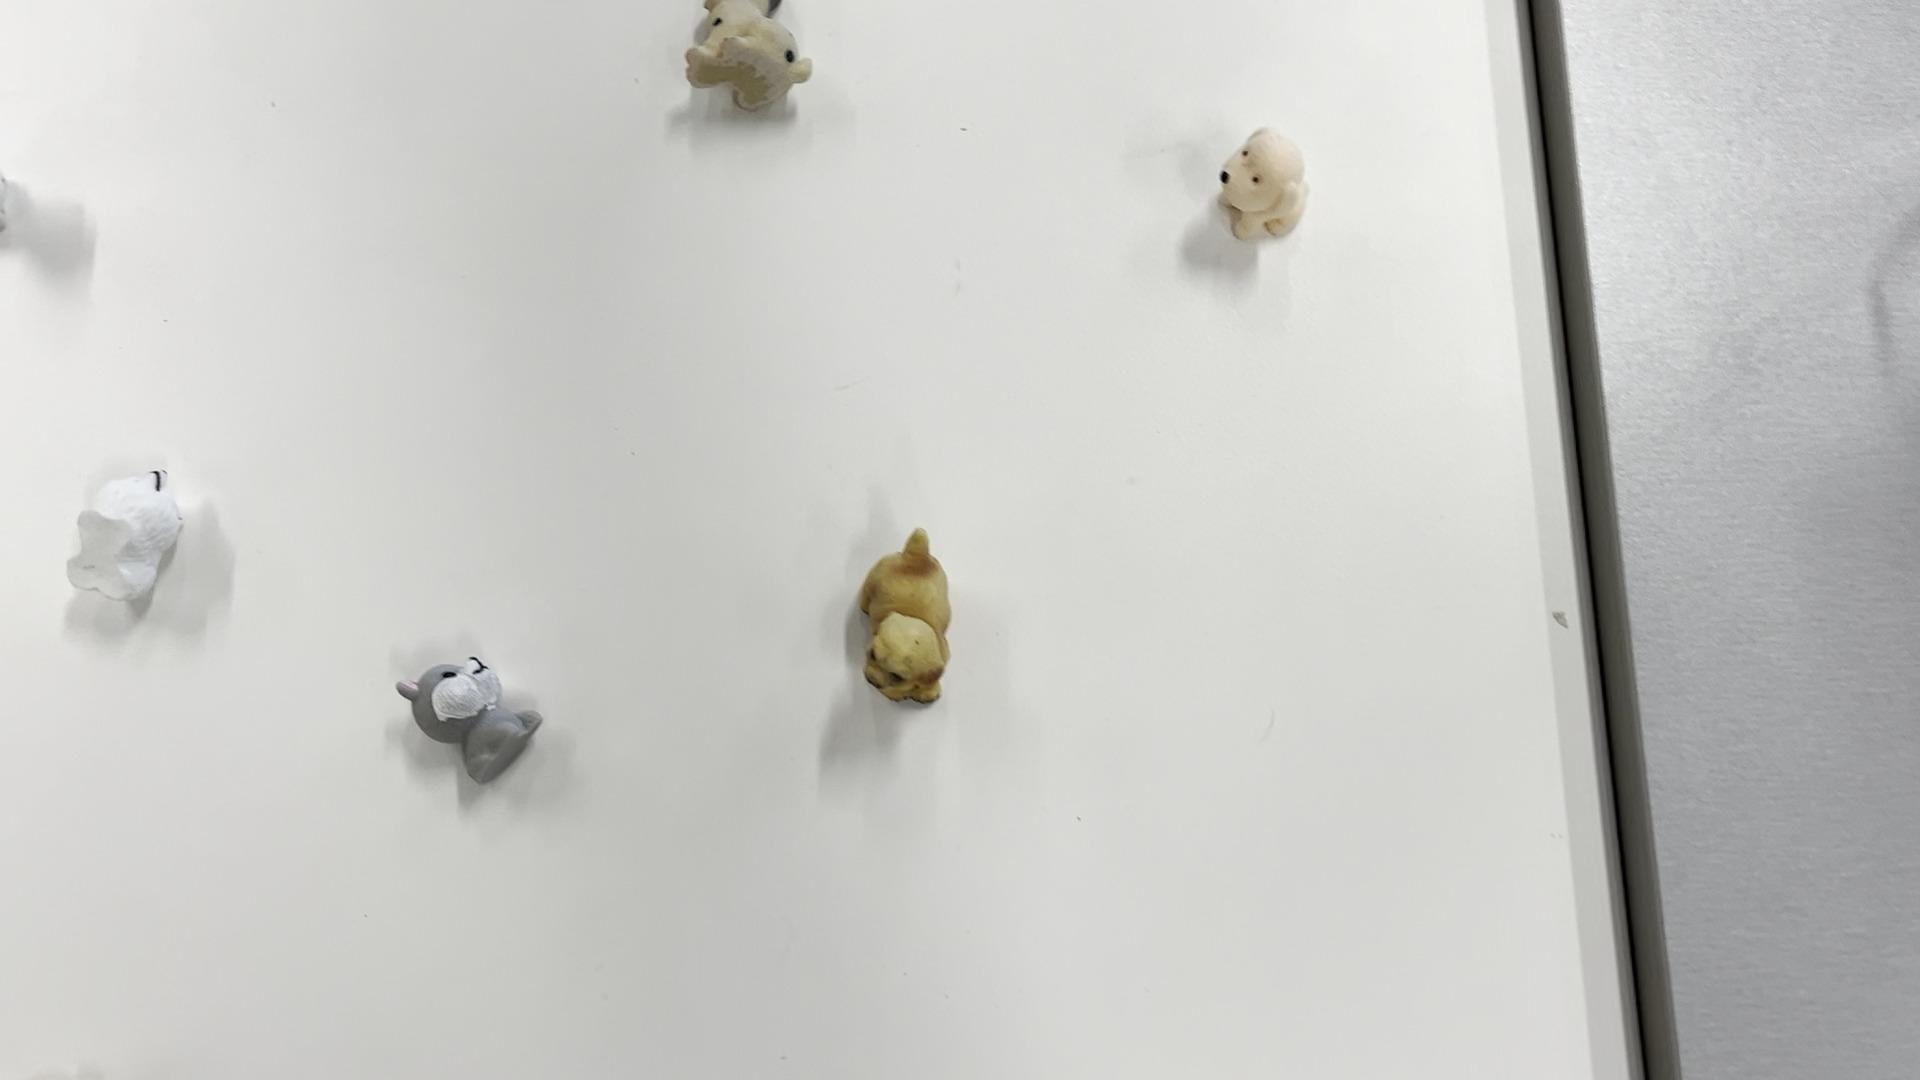pet: (837, 514, 985, 702), (65, 464, 207, 626), (401, 645, 550, 793), (1204, 111, 1323, 284), (682, 0, 829, 136)
